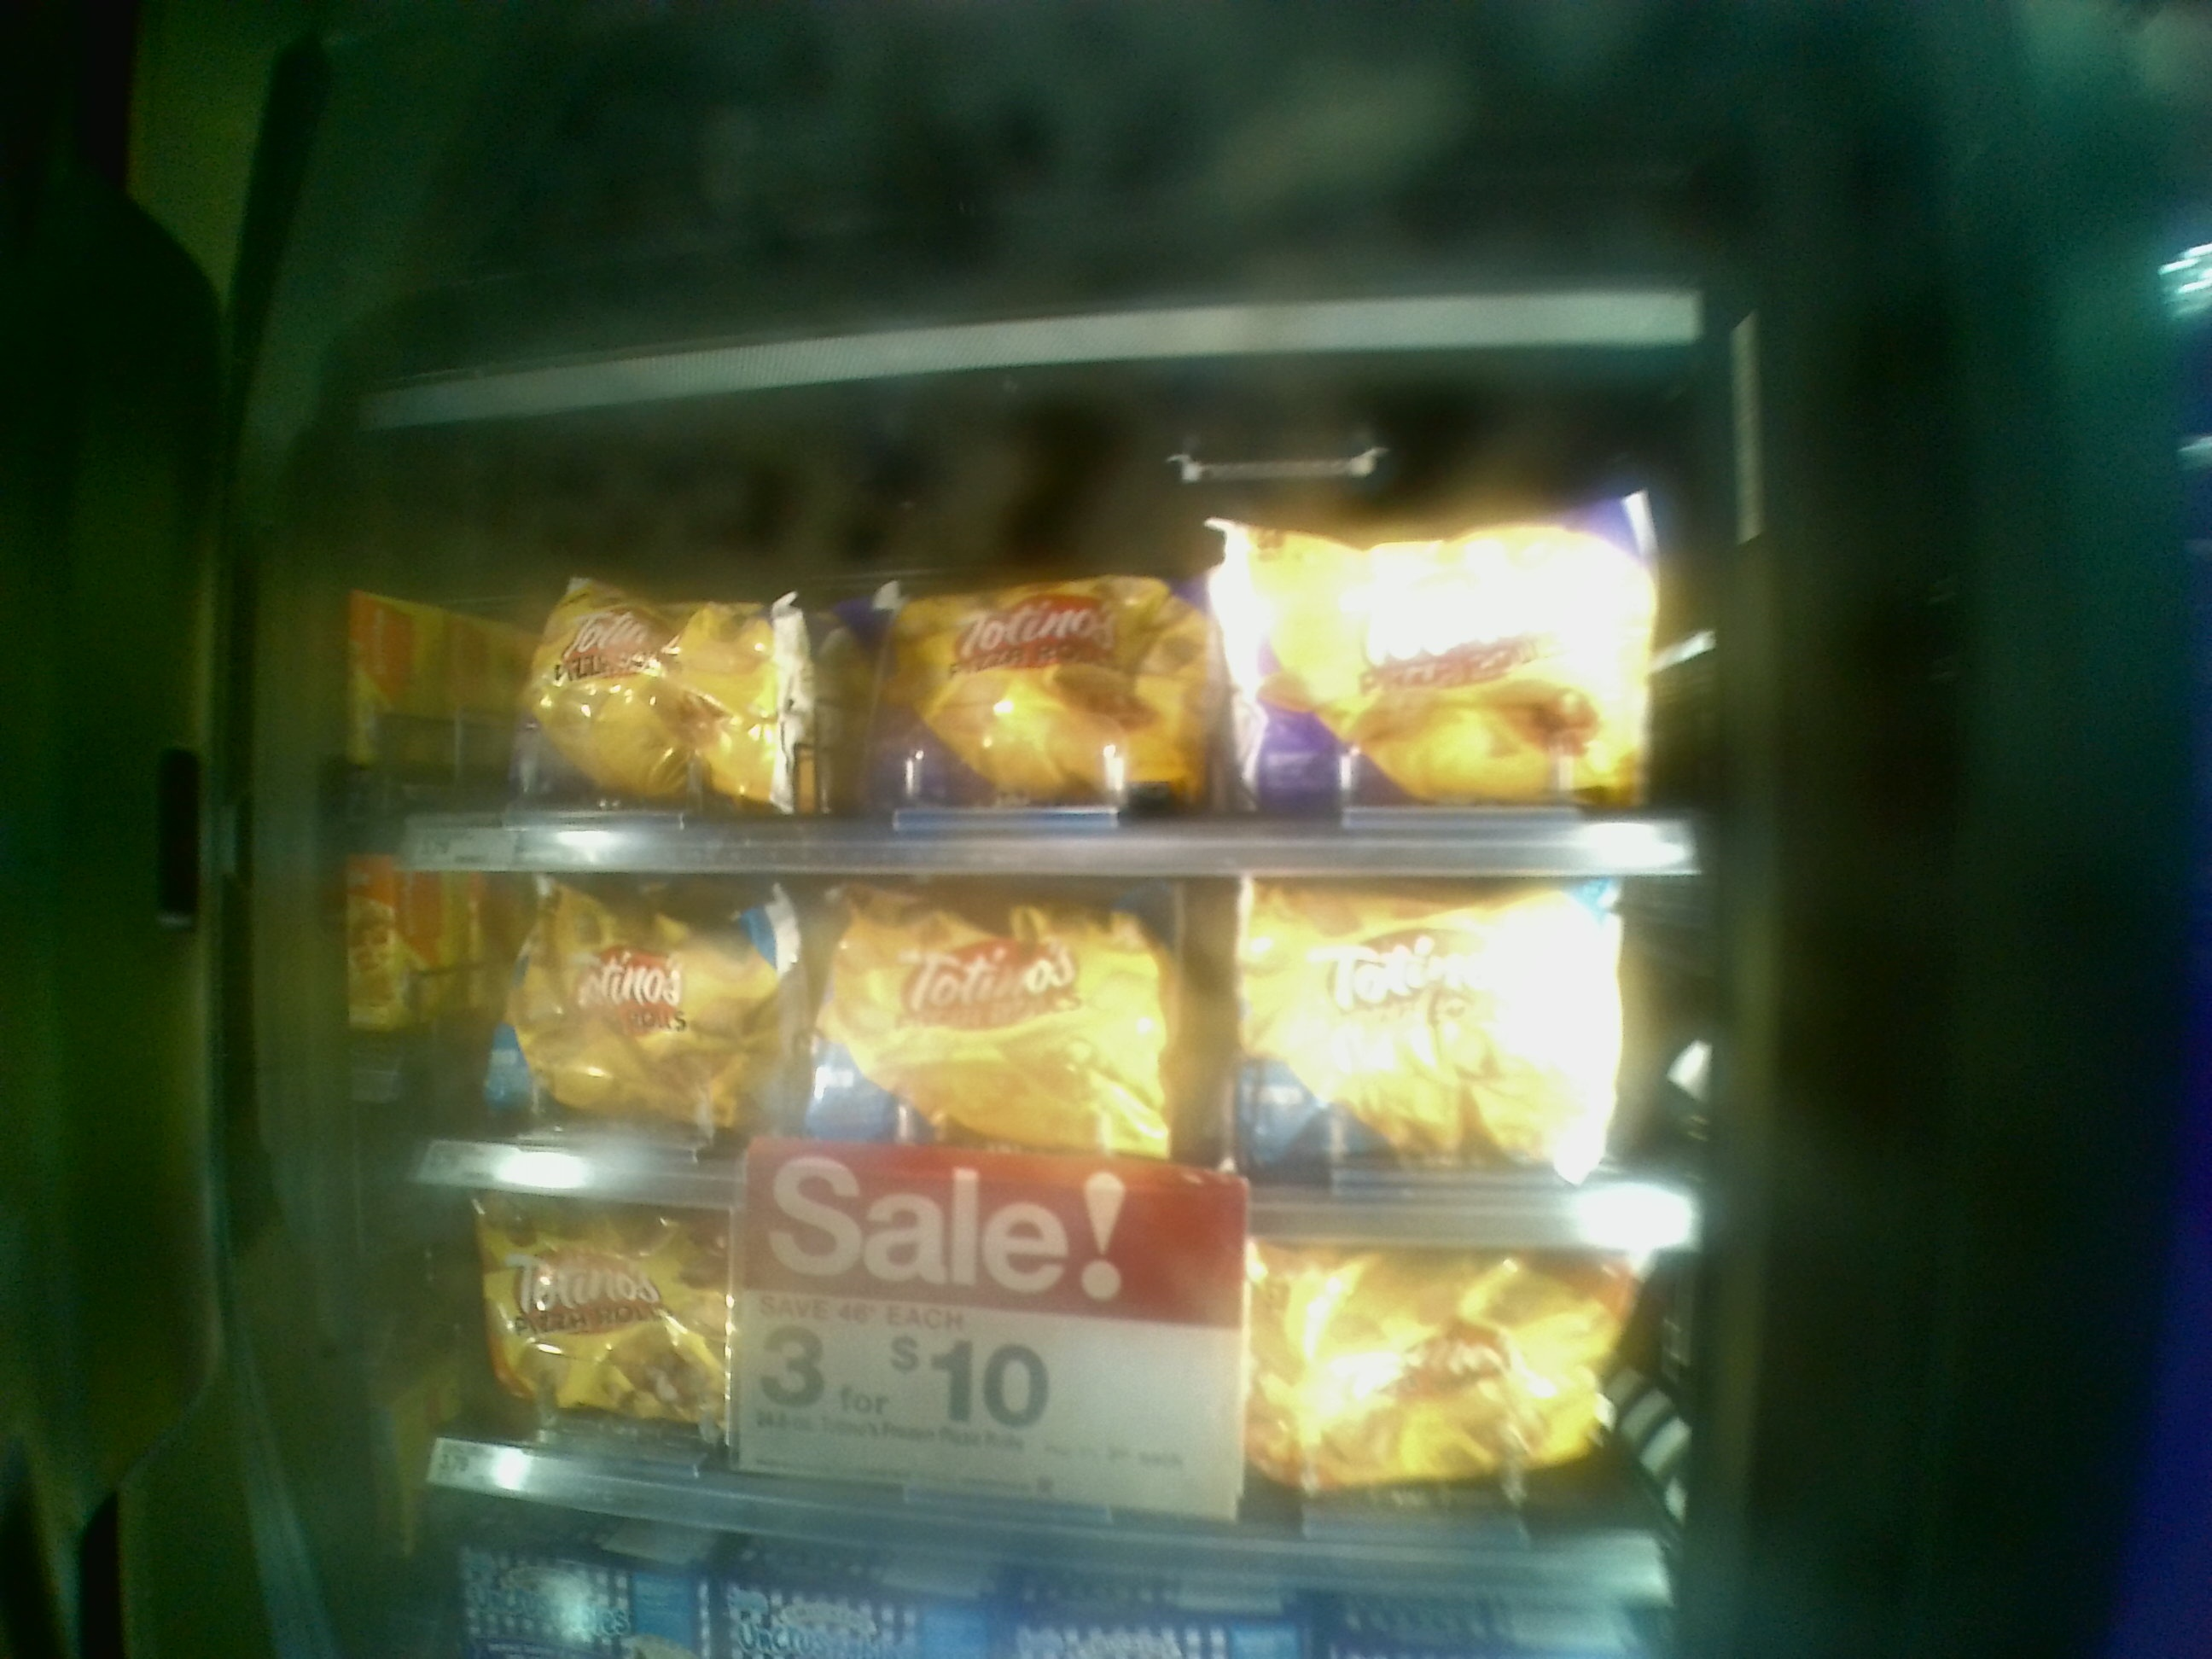shelf: (319, 418, 1716, 878), (347, 1202, 1695, 1607), (334, 864, 1698, 1251)
